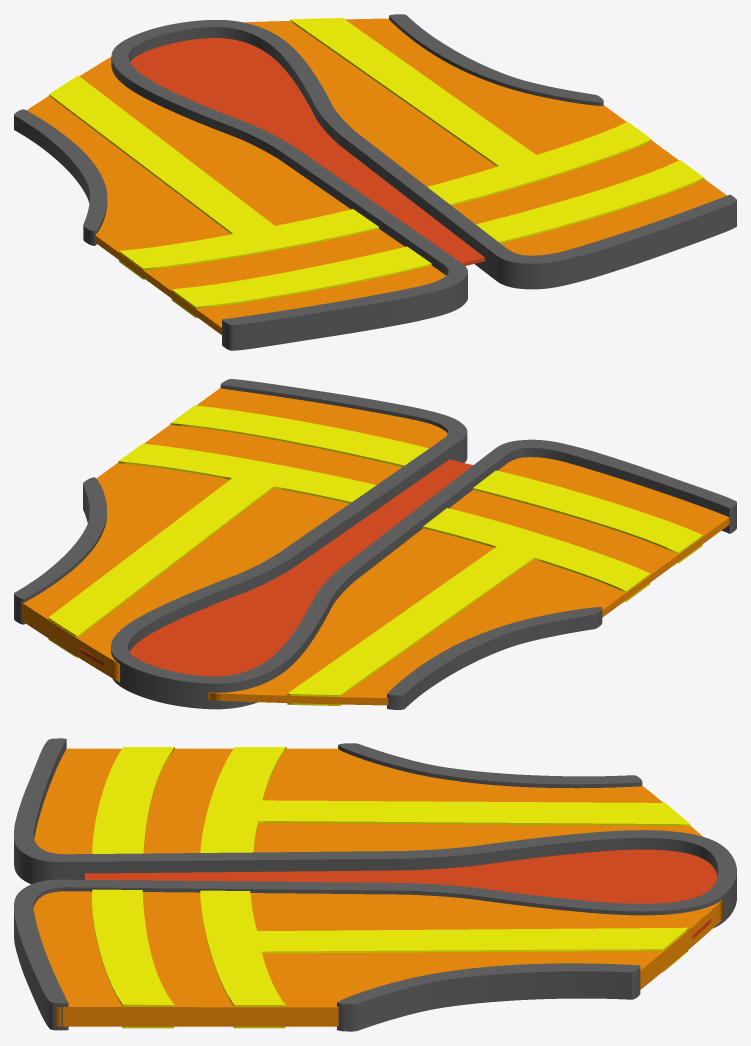
File: emoji_u1f9ba.glb
The picture shows the model from 3 angles, top to bottom: view 1: azimuth 30°, elevation 25°; view 2: azimuth 150°, elevation 25°; view 3: azimuth 270°, elevation 25°; orthographic projection. The views are drawn at different scales.
Visible parts, largest first — view 1: emoji_u1f9ba; view 2: emoji_u1f9ba; view 3: emoji_u1f9ba.
Boxes of the visible parts, left/top/right/bottom form: emoji_u1f9ba: left=14, top=14, right=736, bottom=350; emoji_u1f9ba: left=14, top=379, right=736, bottom=709; emoji_u1f9ba: left=14, top=738, right=736, bottom=1031.
Bounding box in the file's own units: 0.0294 × 0.0014 × 0.0337.
